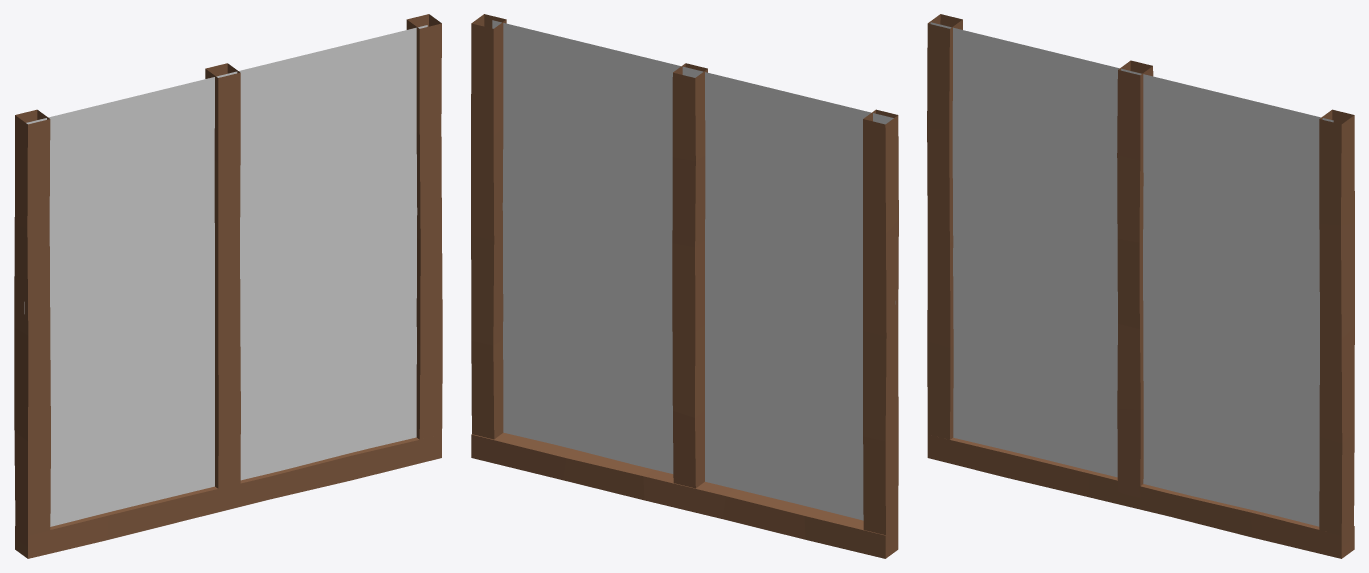
File: PlasterWall2.fbx
3 renders of one model, left to right at view 1: azimuth 30°, elevation 25°; view 2: azimuth 150°, elevation 25°; view 3: azimuth 330°, elevation 25°, orthographic.
Parts seen in each view (by area): view 1: Plaster Wall2; view 2: Plaster Wall2; view 3: Plaster Wall2.
Part boxes in pixels (x1=…): Plaster Wall2: x1=14, y1=14, x2=442, y2=558; Plaster Wall2: x1=471, y1=14, x2=898, y2=558; Plaster Wall2: x1=927, y1=14, x2=1354, y2=558.
Bounding box in the file's own units: 206 × 206 × 11.82.
